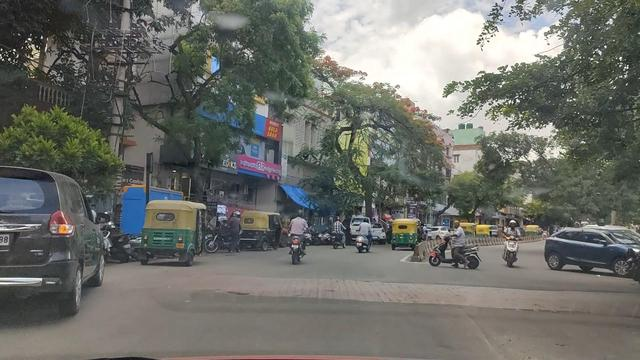LMV: (0, 165, 110, 311), (138, 199, 204, 261), (284, 214, 310, 263)
RoadDamages: (472, 311, 567, 360)
SpeedBump: (132, 277, 414, 325)
